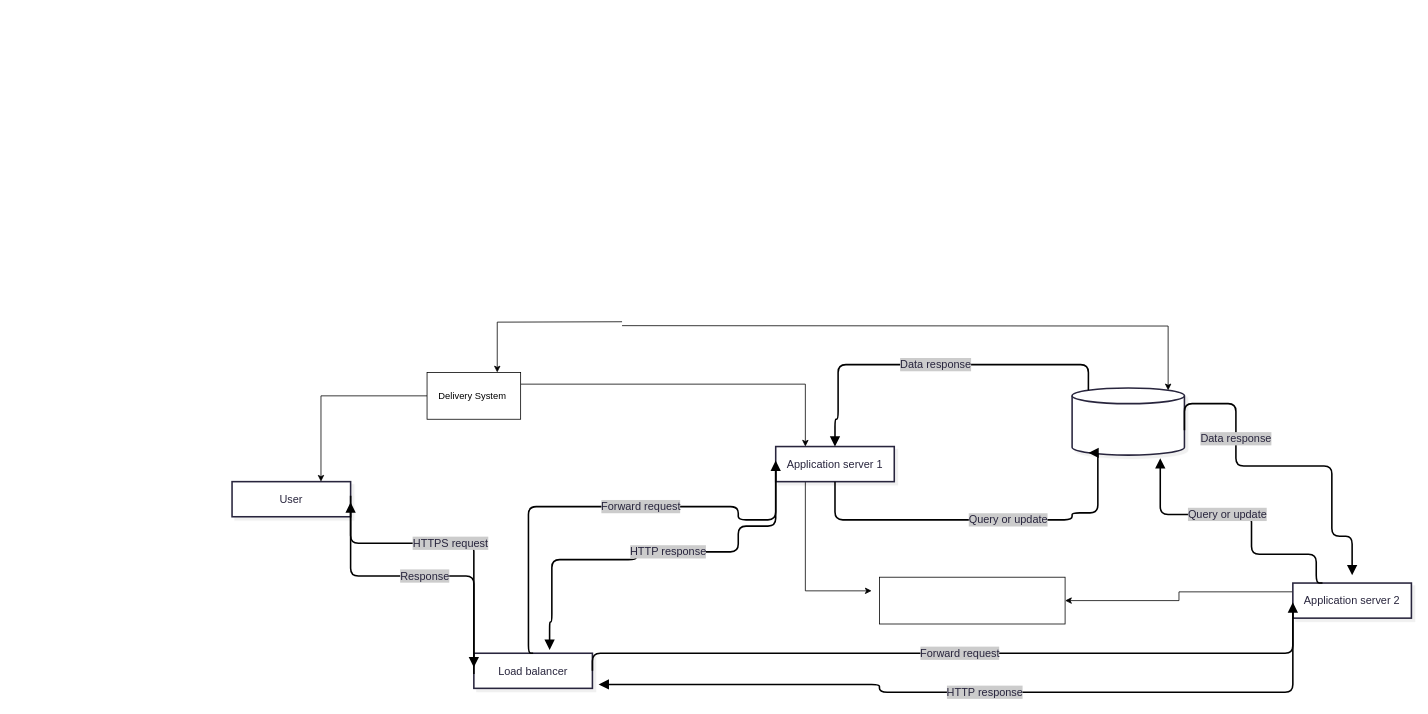
The diagram is 1428 pixels wide and 714 high, and some of its shapes have lost their labels. The centre of each missing label's shape, as x and y in pixels:
"Database" goes at (1129,423).
"Payment gateway" goes at (972,600).
